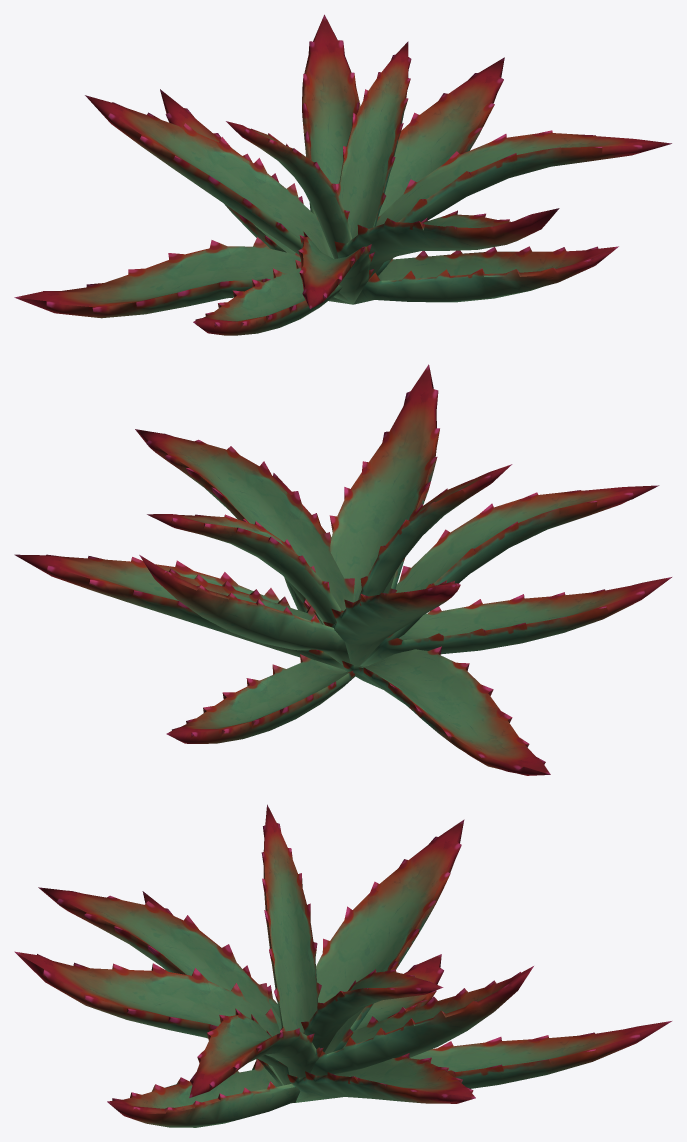
Rendered from DE_Cactus_02.fbx.
3 views of the same model, one above another, from view 1: azimuth 30°, elevation 25°; view 2: azimuth 150°, elevation 25°; view 3: azimuth 270°, elevation 25° (orthographic). The views are drawn at different scales.
Visible parts, largest first — view 1: DE_Cactus_02; view 2: DE_Cactus_02; view 3: DE_Cactus_02.
Part boxes in pixels (<box>): DE_Cactus_02: <box>14,14,671,335</box>; DE_Cactus_02: <box>14,364,671,775</box>; DE_Cactus_02: <box>14,804,671,1127</box>.
Bounding box in the file's own units: 3.29 × 1.36 × 3.52.
